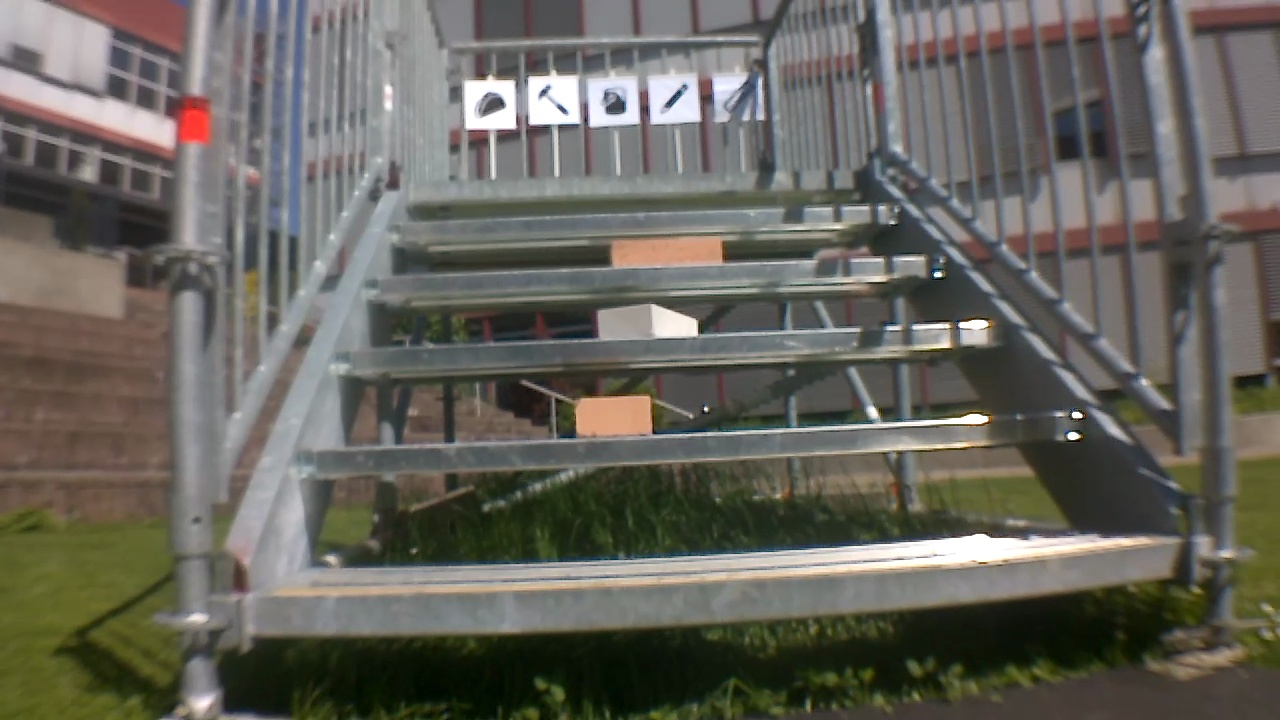brick: (610, 236, 724, 269), (601, 301, 705, 337), (575, 391, 656, 437)
edge: (242, 541, 1208, 650), (287, 410, 1085, 480), (334, 319, 1003, 373), (365, 250, 956, 304), (384, 202, 904, 245), (409, 167, 862, 203)
stairs: (185, 0, 1231, 707)
steps: (244, 172, 1178, 628)
